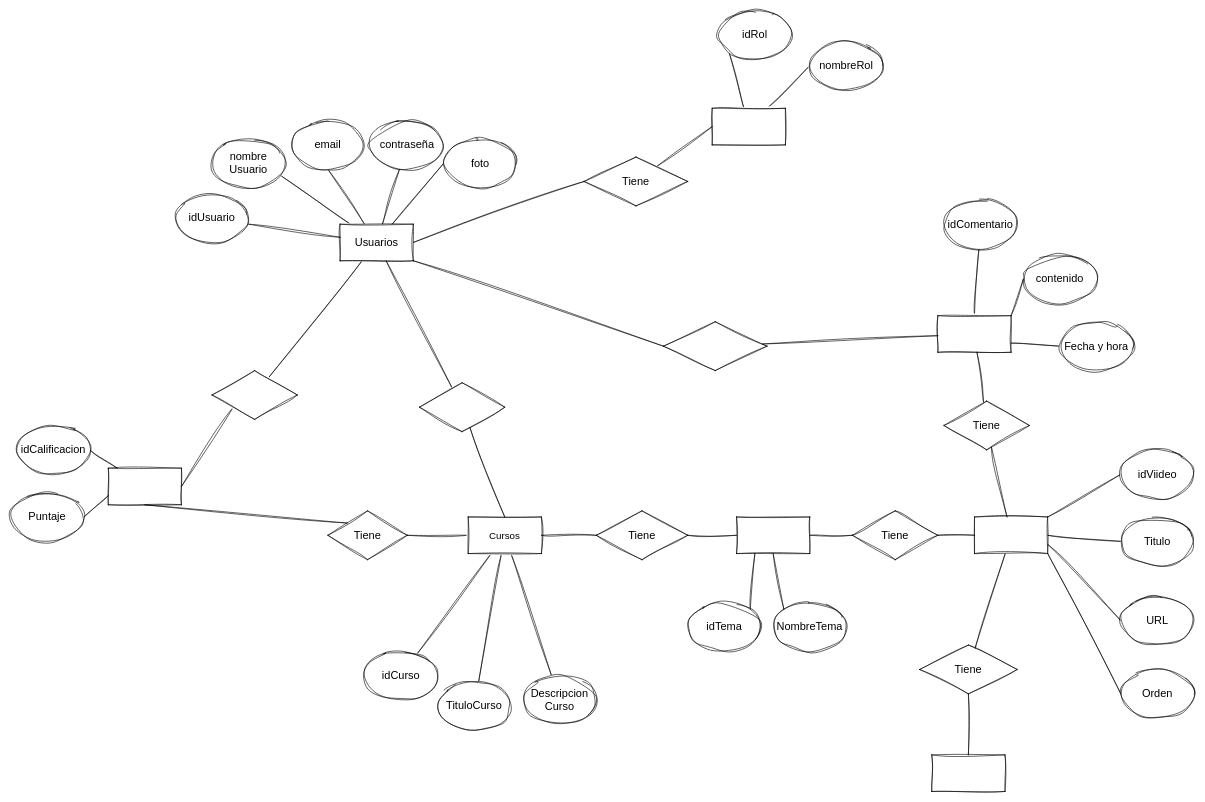
The diagram is 1205 pixels wide and 802 high, and some of its shapes have lost their labels. Each missing label, with the box of its shape:
Asigna: (211, 370, 297, 419)
Calificaciones: (108, 468, 181, 505)
Comentarios: (937, 315, 1011, 352)
Crea: (419, 382, 505, 432)
Escribe: (663, 321, 767, 371)
Recursos: (931, 754, 1005, 791)
Roles: (712, 108, 785, 145)
Temas: (736, 516, 810, 554)
Videos: (974, 516, 1048, 554)
